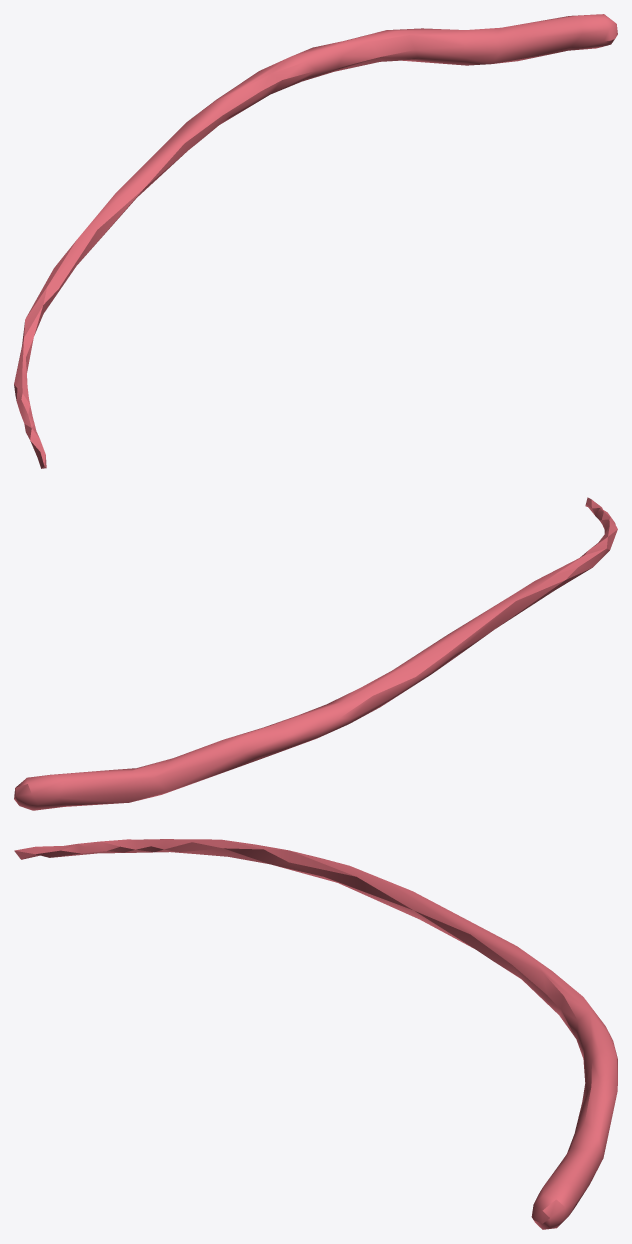
Rendered from fma78121_fj3649.glb.
3 views of the same model, one above another, from view 1: azimuth 30°, elevation 25°; view 2: azimuth 210°, elevation 25°; view 3: azimuth 270°, elevation 25° (orthographic). The views are drawn at different scales.
Visible parts, largest first — view 1: FMA78121_FJ3649; view 2: FMA78121_FJ3649; view 3: FMA78121_FJ3649.
Part boxes in pixels (box(x1,y1,x2,y2)): FMA78121_FJ3649: box(14, 14, 617, 468); FMA78121_FJ3649: box(14, 497, 617, 810); FMA78121_FJ3649: box(14, 839, 617, 1229).
Bounding box in the file's own units: 0.0445 × 0.00567 × 0.0254.
